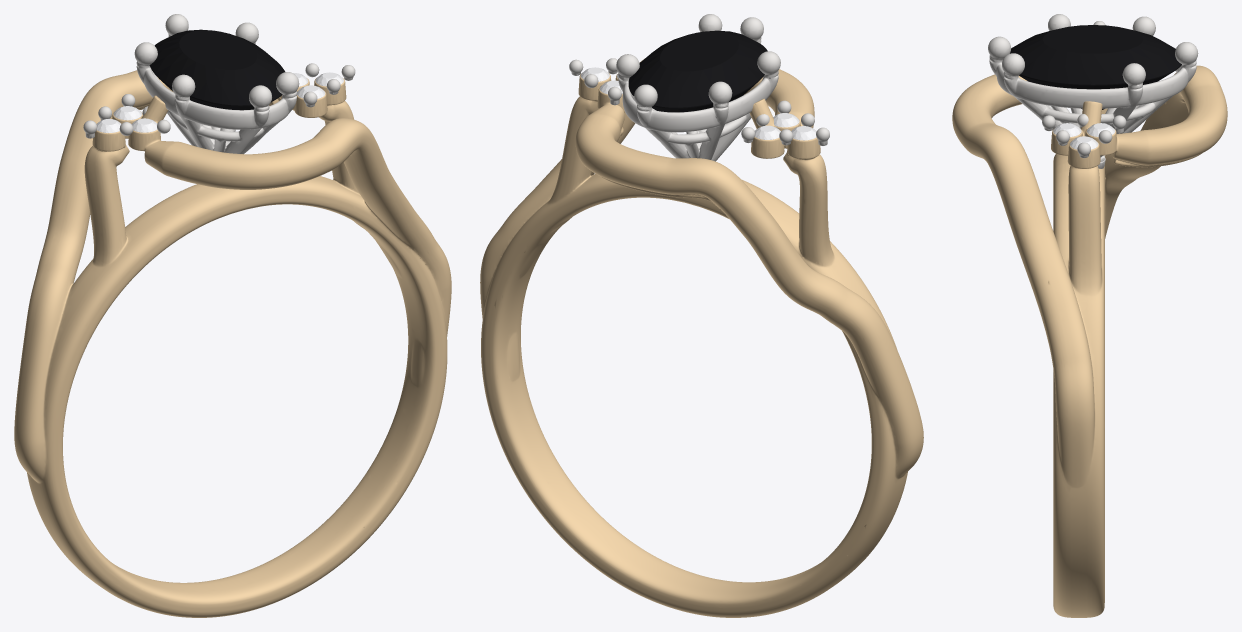
File: sapphire-diamond-ring-9ct.glb
3 renders of one model, left to right at view 1: azimuth 30°, elevation 25°; view 2: azimuth 150°, elevation 25°; view 3: azimuth 270°, elevation 25°, orthographic. The views are drawn at different scales.
Visible parts, largest first — view 1: yellow_gold, white_gold, black_sapphire, diamond; view 2: yellow_gold, white_gold, black_sapphire, diamond; view 3: yellow_gold, white_gold, black_sapphire, diamond.
Boxes of the visible parts, x1,y1,x2,y2 form: yellow_gold: [14, 70, 451, 617]; white_gold: [83, 14, 355, 153]; black_sapphire: [149, 29, 284, 110]; diamond: [96, 72, 343, 133]; yellow_gold: [480, 59, 923, 617]; white_gold: [569, 14, 829, 161]; black_sapphire: [628, 30, 767, 112]; diamond: [580, 67, 816, 140]; yellow_gold: [952, 65, 1227, 617]; white_gold: [988, 14, 1198, 168]; black_sapphire: [1010, 25, 1181, 109]; diamond: [1053, 123, 1115, 149].
Size of the model in its own units: 0.021 by 0.0259 by 0.0117.
